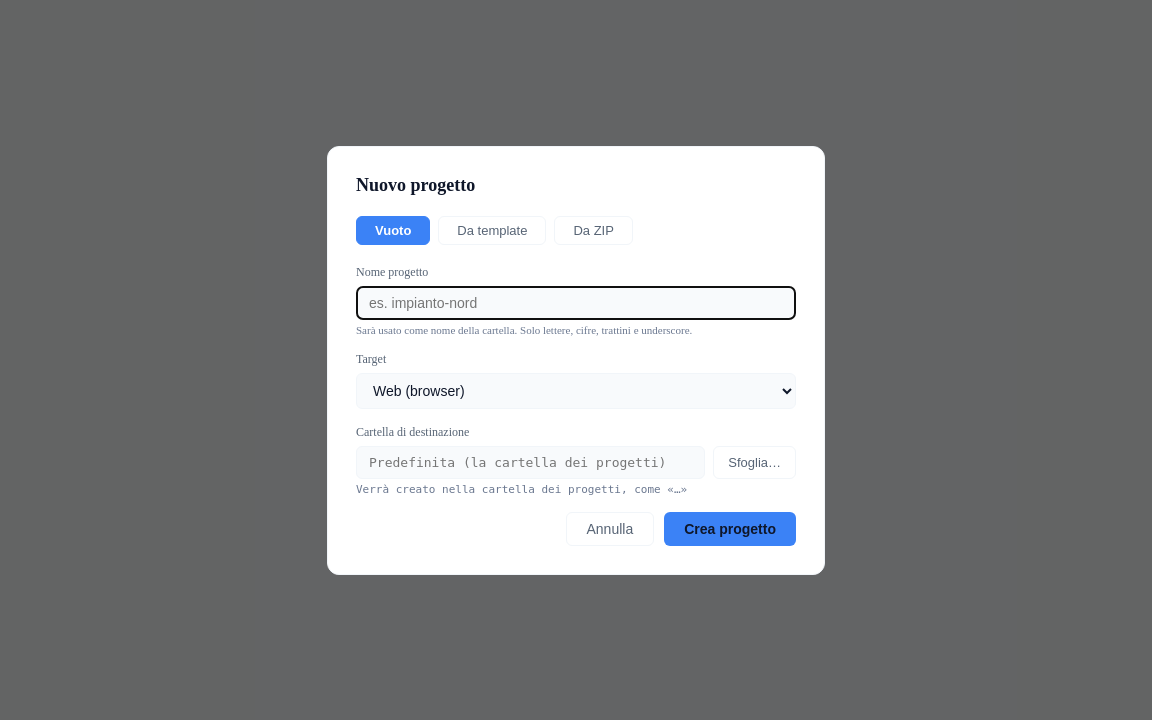
dove nasce il progetto › con un'azienda sua, lo dice
Type "linea" into the field with placeholder "es. impianto-nord".
click(576, 302); type("linea")  # box left=356, top=286, right=796, bottom=320
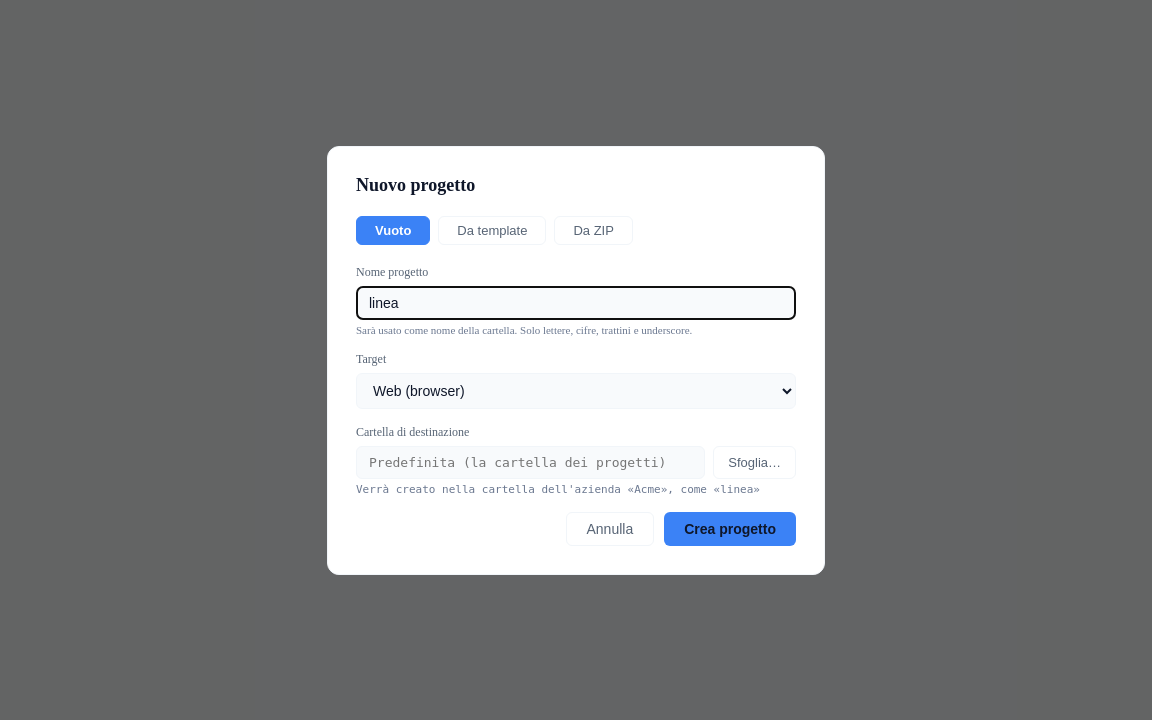
Now the text "Verrà creato nella cartella dell'azienda «Acme», come «linea»" is shown, box left=356, top=482, right=796, bottom=496
